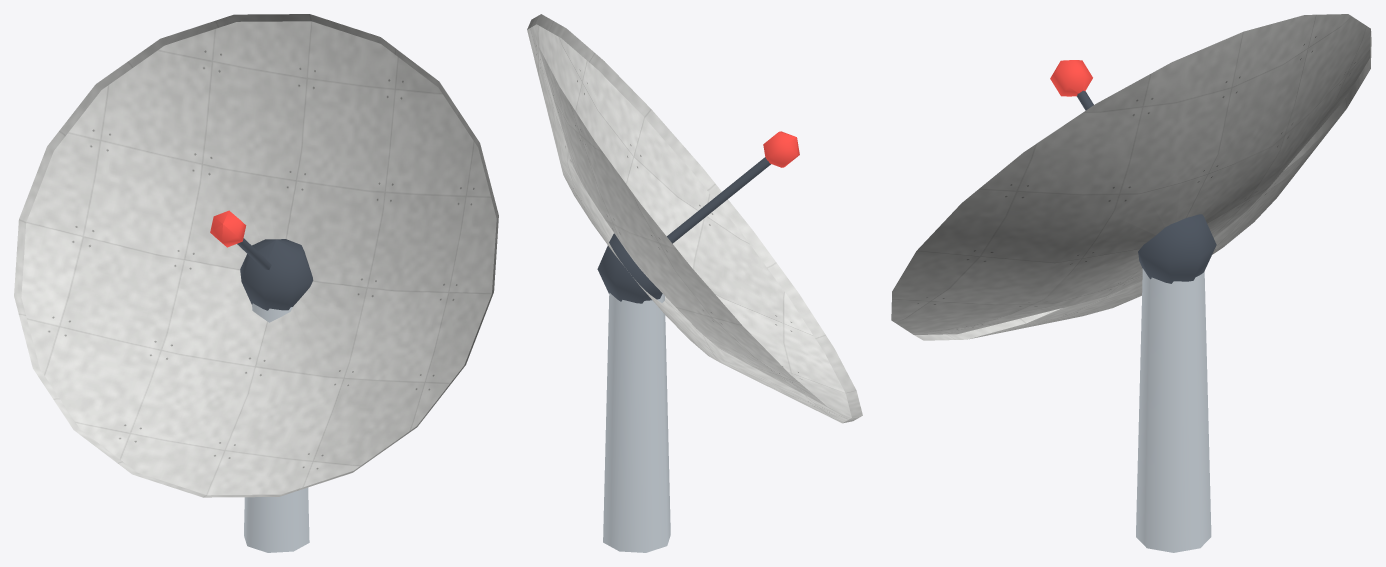
File: prop_dish_pylon.glb
3 views of the same model, side by side, from view 1: azimuth 30°, elevation 25°; view 2: azimuth 150°, elevation 25°; view 3: azimuth 270°, elevation 25° (orthographic). The views are drawn at different scales.
Parts seen in each view (by area): view 1: prop_dish_pylon_LOD0; view 2: prop_dish_pylon_LOD0; view 3: prop_dish_pylon_LOD0.
Part boxes in pixels (x1,y1,x2,y2): prop_dish_pylon_LOD0: (14,14,498,552); prop_dish_pylon_LOD0: (527,14,862,552); prop_dish_pylon_LOD0: (891,14,1371,552).
Size of what is drawn, in the model's own units: 4.18 by 5.52 by 4.45.
2 materials, 2 textured.
